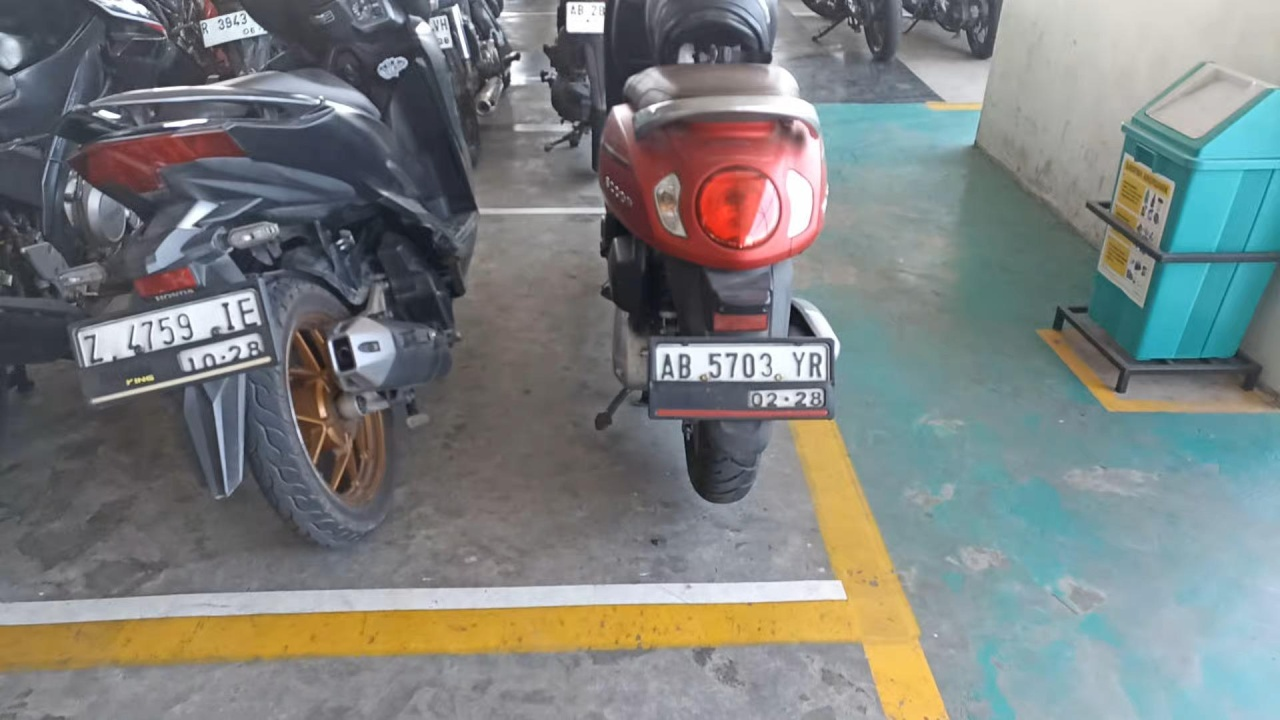plate: (72, 281, 275, 407), (654, 337, 831, 417)
